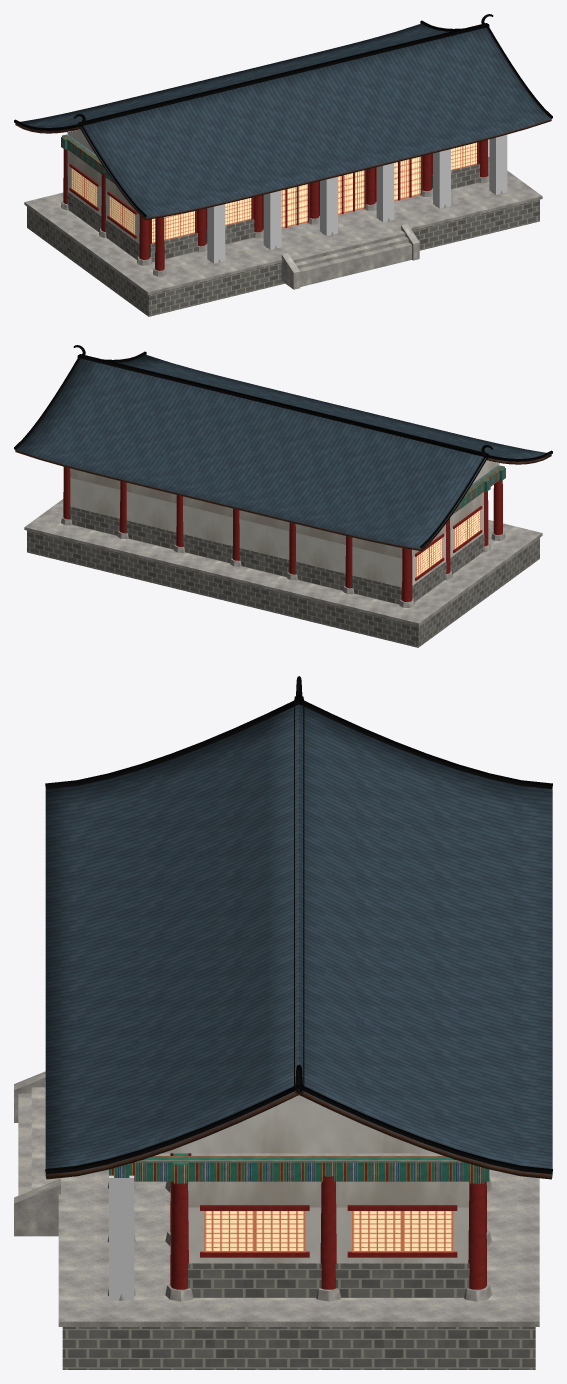
File: dormitory_row.glb
The picture shows the model from 3 angles, top to bottom: view 1: azimuth 30°, elevation 25°; view 2: azimuth 150°, elevation 25°; view 3: azimuth 270°, elevation 25°; orthographic projection. The views are drawn at different scales.
Parts seen in each view (by area): view 1: DormRoof, DormPodiumCap, DormPodiumBase, DormLattice, DormColumns, DormStairsfront, DormRoofRidge, DormDado, DormFrames, DormWalls, DormVCol-convcolonly.006, DormVCol-convcolonly.001 (+7 smaller); view 2: DormRoof, DormWalls, DormPodiumBase, DormPodiumCap, DormDado, DormColumns, DormRoofRidge, DormLattice, DormColumnBases, DormBeams, DormFrames; view 3: DormRoof, DormPodiumCap, DormPodiumBase, DormWalls, DormDado, DormBeams, DormLattice, DormRoofRidge, DormGables, DormColumns, DormVCol-convcolonly.006, DormStairsfront (+3 smaller).
Part boxes in pixels (box(x1,y1,x2,y2)): DormRoof: box(15, 23, 551, 220); DormPodiumCap: box(24, 157, 542, 294); DormPodiumBase: box(27, 199, 539, 316); DormLattice: box(71, 142, 476, 243); DormColumns: box(63, 139, 488, 270); DormStairsfront: box(291, 230, 411, 286); DormRoofRidge: box(14, 14, 552, 217); DormDado: box(67, 164, 479, 262); DormFrames: box(69, 142, 479, 244); DormWalls: box(67, 150, 139, 243); DormVCol-convcolonly.006: box(489, 134, 507, 194); DormVCol-convcolonly.001: box(207, 204, 225, 263); DormRoof: box(15, 354, 551, 551); DormWalls: box(70, 468, 483, 587); DormPodiumBase: box(27, 530, 539, 647); DormPodiumCap: box(24, 499, 542, 625); DormDado: box(70, 506, 484, 604); DormColumns: box(63, 467, 502, 601); DormRoofRidge: box(14, 345, 552, 548); DormLattice: box(416, 510, 480, 577); DormColumnBases: box(61, 516, 505, 607); DormBeams: box(452, 465, 505, 514); DormFrames: box(415, 506, 482, 580); DormRoof: box(45, 704, 552, 1179); DormPodiumCap: box(58, 1153, 539, 1326); DormPodiumBase: box(62, 1327, 535, 1369); DormWalls: box(188, 1181, 469, 1263); DormDado: box(187, 1263, 469, 1297); DormBeams: box(109, 1153, 489, 1183); DormLattice: box(204, 1211, 453, 1252); DormRoofRidge: box(45, 676, 552, 1174); DormGables: box(162, 1095, 435, 1153); DormColumns: box(170, 1153, 486, 1289); DormVCol-convcolonly.006: box(109, 1175, 134, 1300); DormStairsfront: box(18, 1081, 59, 1195).
Size of what is drawn, in the model's own units: 22.31 by 8.15 by 12.76.
9 materials, 9 textured.
